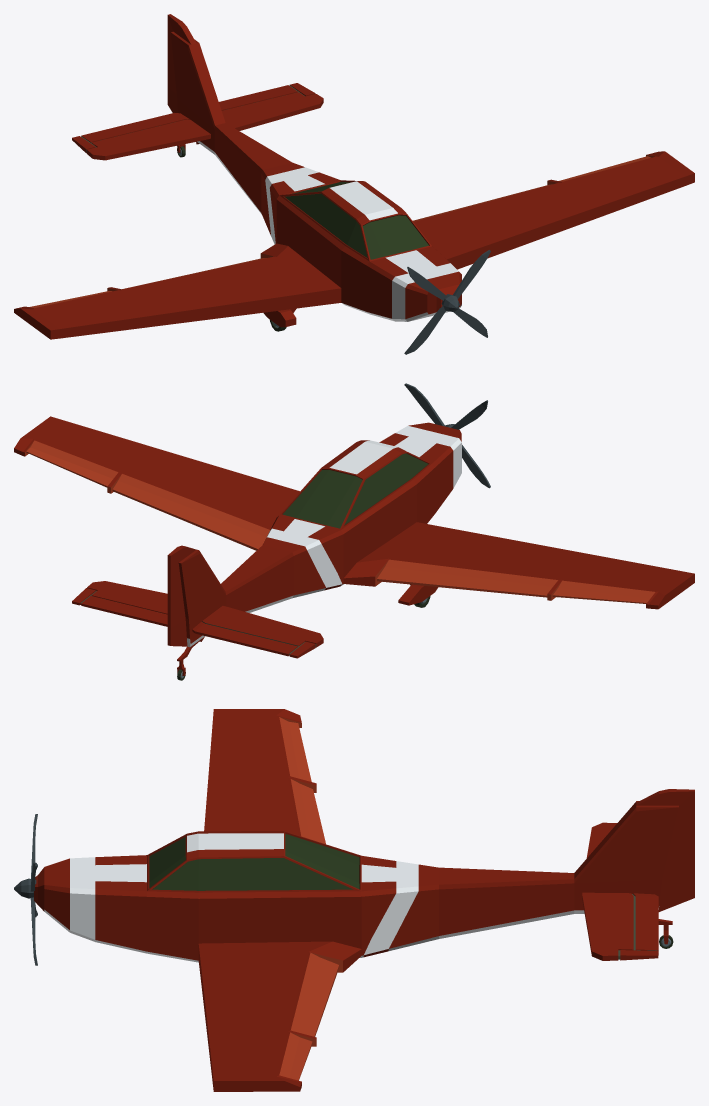
File: LightPlane.glb
3 renders of one model, top to bottom at view 1: azimuth 30°, elevation 25°; view 2: azimuth 150°, elevation 25°; view 3: azimuth 270°, elevation 25°, orthographic. The views are drawn at different scales.
Parts seen in each view (by area): view 1: LightPlane, LightPlane_FrontPropeller; view 2: LightPlane, LightPlane_FrontPropeller; view 3: LightPlane, LightPlane_FrontPropeller.
Part boxes in pixels (left/top/right/bottom): LightPlane: left=14, top=14, right=694, bottom=339; LightPlane_FrontPropeller: left=404, top=250, right=490, bottom=354; LightPlane: left=14, top=416, right=694, bottom=675; LightPlane_FrontPropeller: left=404, top=383, right=490, bottom=488; LightPlane: left=14, top=709, right=694, bottom=1091; LightPlane_FrontPropeller: left=30, top=814, right=37, bottom=965.
Bounding box in the file's own units: 1.54 × 0.3779 × 1.19.
1 material, 1 textured.
